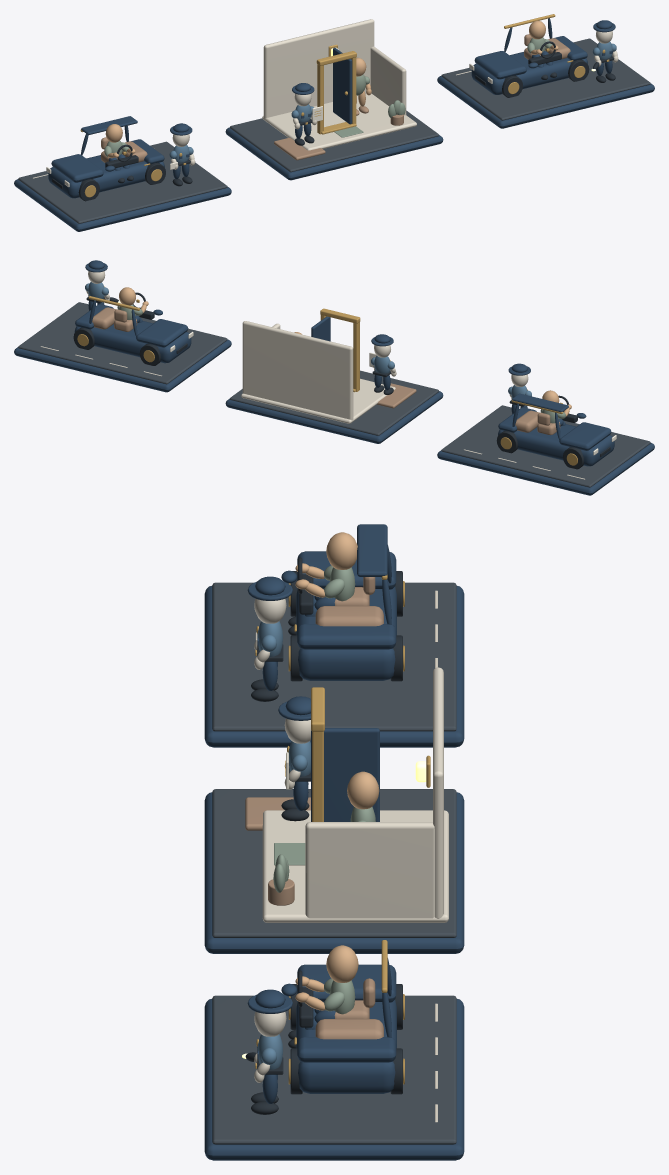
The model's file is amparo-encounters.glb.
3 renders of one model, top to bottom at view 1: azimuth 30°, elevation 25°; view 2: azimuth 150°, elevation 25°; view 3: azimuth 270°, elevation 25°, orthographic. The views are drawn at different scales.
Parts seen in each view (by area): view 1: back_wall, scene_traffic_surface, scene_search_surface, scene_door_surface, house_floor, scene_door_plinth, scene_traffic_plinth, scene_search_plinth, right_cutaway_wall, scene_search_lower_body, scene_traffic_lower_body, closed_door_leaf (+8 smaller); view 2: back_wall, scene_traffic_surface, scene_search_surface, scene_door_surface, scene_traffic_plinth, scene_search_plinth, scene_door_plinth, scene_search_lower_body, scene_traffic_lower_body, house_floor, scene_traffic_hood, scene_search_hood (+6 smaller); view 3: scene_search_surface, scene_traffic_surface, scene_door_surface, right_cutaway_wall, scene_search_plinth, scene_door_plinth, scene_traffic_plinth, house_floor, closed_door_leaf, scene_traffic_lower_body, scene_search_lower_body, back_wall (+12 smaller).
Boxes of the visible parts, x1=… form: back_wall: x1=263, y1=19, x2=374, y2=118; scene_traffic_surface: x1=18, y1=141, x2=227, y2=223; scene_search_surface: x1=441, y1=38, x2=650, y2=120; scene_door_surface: x1=230, y1=110, x2=438, y2=172; house_floor: x1=262, y1=93, x2=416, y2=150; scene_door_plinth: x1=225, y1=127, x2=443, y2=180; scene_traffic_plinth: x1=14, y1=179, x2=231, y2=231; scene_search_plinth: x1=437, y1=76, x2=654, y2=128; right_cutaway_wall: x1=370, y1=46, x2=406, y2=115; scene_search_lower_body: x1=471, y1=52, x2=587, y2=94; scene_traffic_lower_body: x1=48, y1=155, x2=164, y2=198; closed_door_leaf: x1=333, y1=47, x2=352, y2=124; back_wall: x1=242, y1=321, x2=353, y2=420; scene_traffic_surface: x1=441, y1=405, x2=650, y2=487; scene_search_surface: x1=18, y1=302, x2=227, y2=384; scene_door_surface: x1=230, y1=370, x2=438, y2=435; scene_traffic_plinth: x1=437, y1=443, x2=654, y2=495; scene_search_plinth: x1=14, y1=339, x2=231, y2=392; scene_door_plinth: x1=225, y1=391, x2=443, y2=443; scene_search_lower_body: x1=74, y1=321, x2=191, y2=363; scene_traffic_lower_body: x1=498, y1=424, x2=614, y2=466; house_floor: x1=241, y1=378, x2=395, y2=423; scene_traffic_hood: x1=559, y1=422, x2=611, y2=450; scene_search_hood: x1=136, y1=319, x2=188, y2=347; scene_search_surface: x1=212, y1=995, x2=456, y2=1144; scene_traffic_surface: x1=212, y1=582, x2=456, y2=731; scene_door_surface: x1=212, y1=789, x2=456, y2=937; right_cutaway_wall: x1=305, y1=822, x2=434, y2=918; scene_search_plinth: x1=204, y1=999, x2=464, y2=1160; scene_door_plinth: x1=204, y1=792, x2=464, y2=953; scene_traffic_plinth: x1=204, y1=586, x2=464, y2=747; house_floor: x1=262, y1=810, x2=448, y2=922; closed_door_leaf: x1=311, y1=728, x2=379, y2=821; scene_traffic_lower_body: x1=296, y1=586, x2=396, y2=680; scene_search_lower_body: x1=296, y1=999, x2=396, y2=1093; back_wall: x1=433, y1=667, x2=443, y2=918.
Size of the model in its own units: 21.9 by 3.15 by 4.25.
